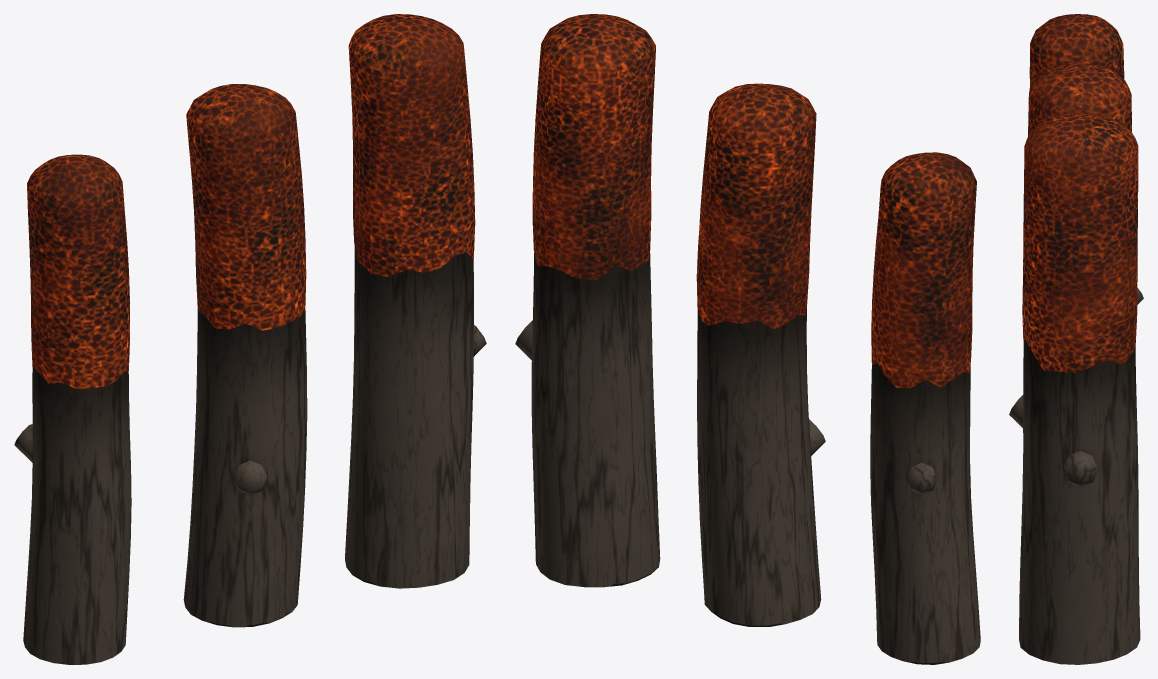
The model's file is firewood.glb.
3 renders of one model, left to right at view 1: azimuth 30°, elevation 25°; view 2: azimuth 150°, elevation 25°; view 3: azimuth 270°, elevation 25°, orthographic. The views are drawn at different scales.
Visible parts, largest first — view 1: Bark.002, Bark.001, CharEnd.002, Bark, CharEnd.001, CharEnd; view 2: Bark.002, Bark.001, CharEnd.002, Bark, CharEnd.001, CharEnd; view 3: Bark.002, CharEnd.002, CharEnd.001, CharEnd, Bark.001.
Part boxes in pixels (bbox=[...]): Bark.002: bbox=[345, 247, 486, 588]; Bark.001: bbox=[183, 308, 307, 627]; CharEnd.002: bbox=[348, 14, 475, 276]; Bark: bbox=[14, 367, 131, 664]; CharEnd.001: bbox=[186, 84, 306, 330]; CharEnd: bbox=[27, 154, 129, 388]; Bark.002: bbox=[515, 253, 660, 587]; Bark.001: bbox=[697, 307, 825, 626]; CharEnd.002: bbox=[532, 14, 655, 279]; Bark: bbox=[870, 363, 980, 664]; CharEnd.001: bbox=[696, 83, 816, 329]; CharEnd: bbox=[871, 152, 976, 387]; Bark.002: bbox=[1019, 340, 1140, 664]; CharEnd.002: bbox=[1022, 113, 1138, 373]; CharEnd.001: bbox=[1028, 63, 1131, 136]; CharEnd: bbox=[1029, 14, 1124, 86]; Bark.001: bbox=[1009, 395, 1023, 427].
Bounding box in the file's own units: 0.6839 × 0.781 × 0.1834.
Materials: 2 (2 with a texture image).
